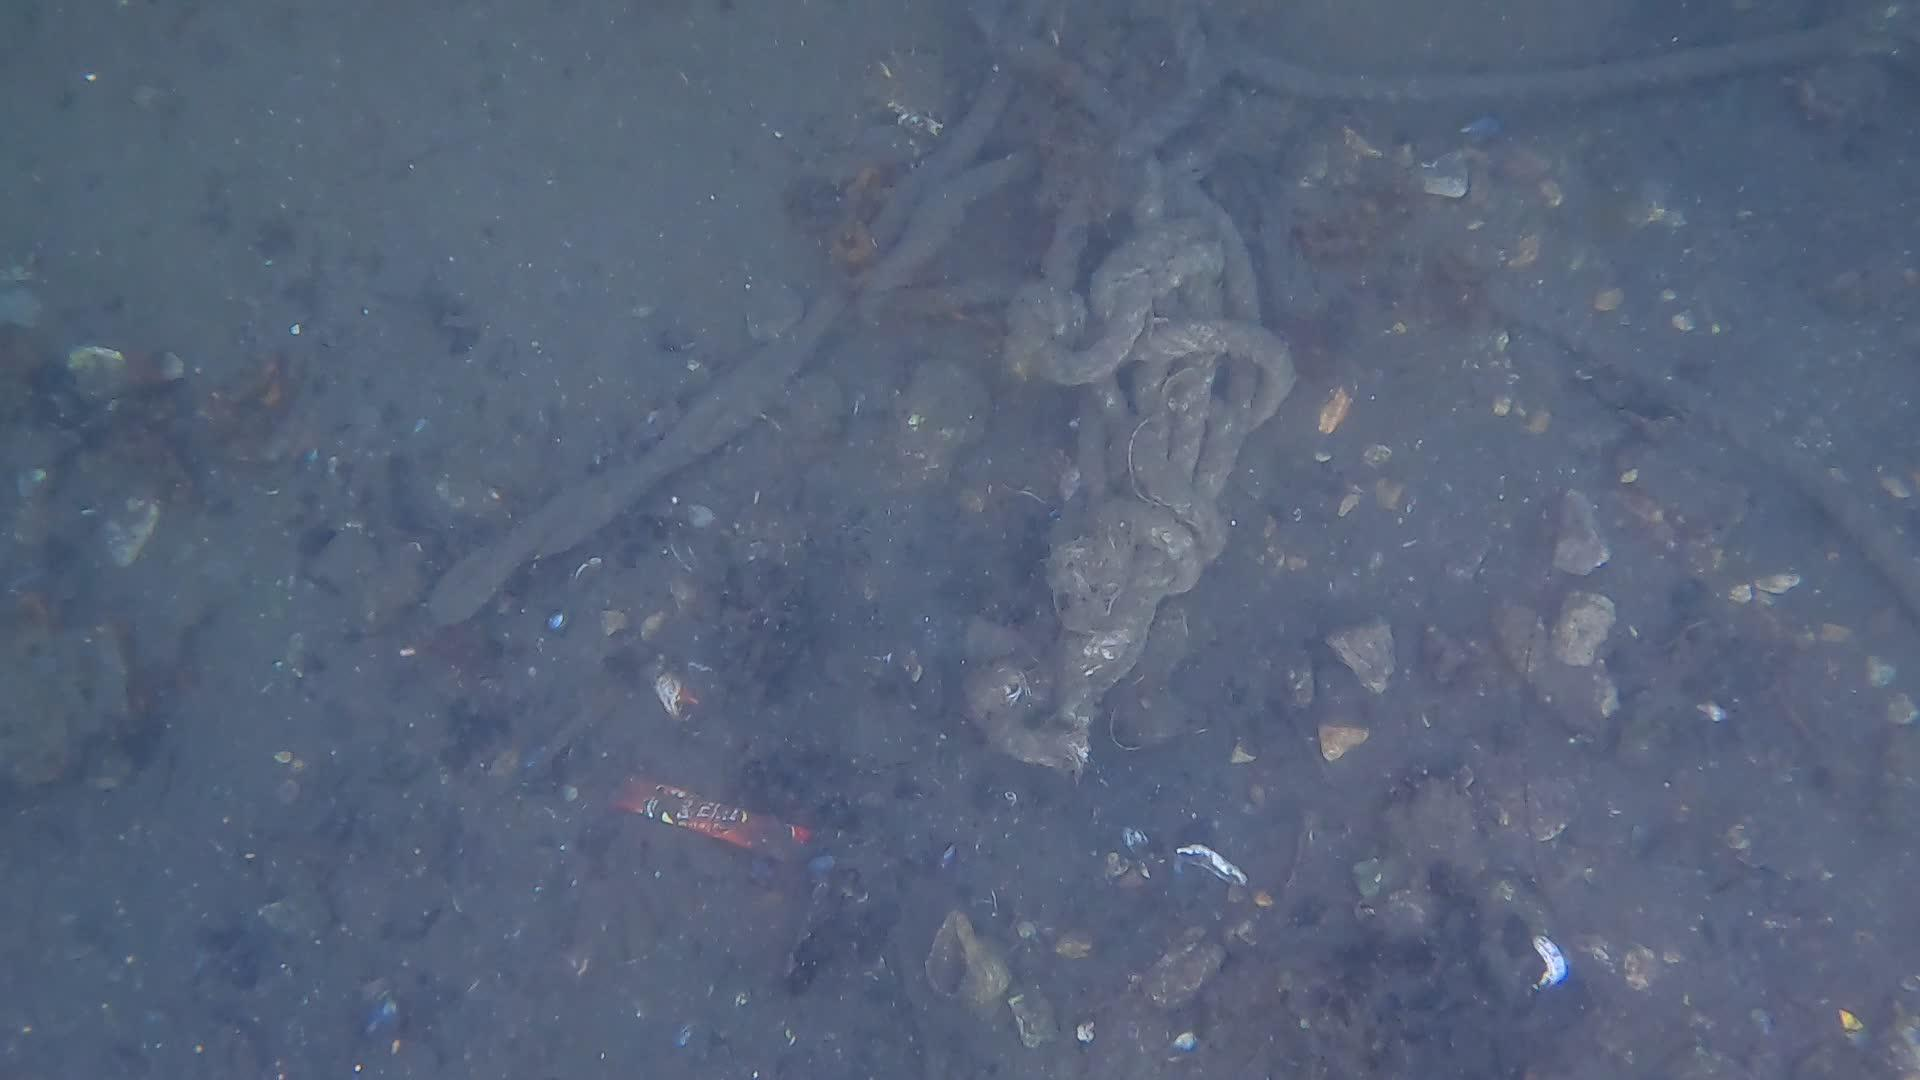bundle of ropes: (415, 3, 1920, 764)
